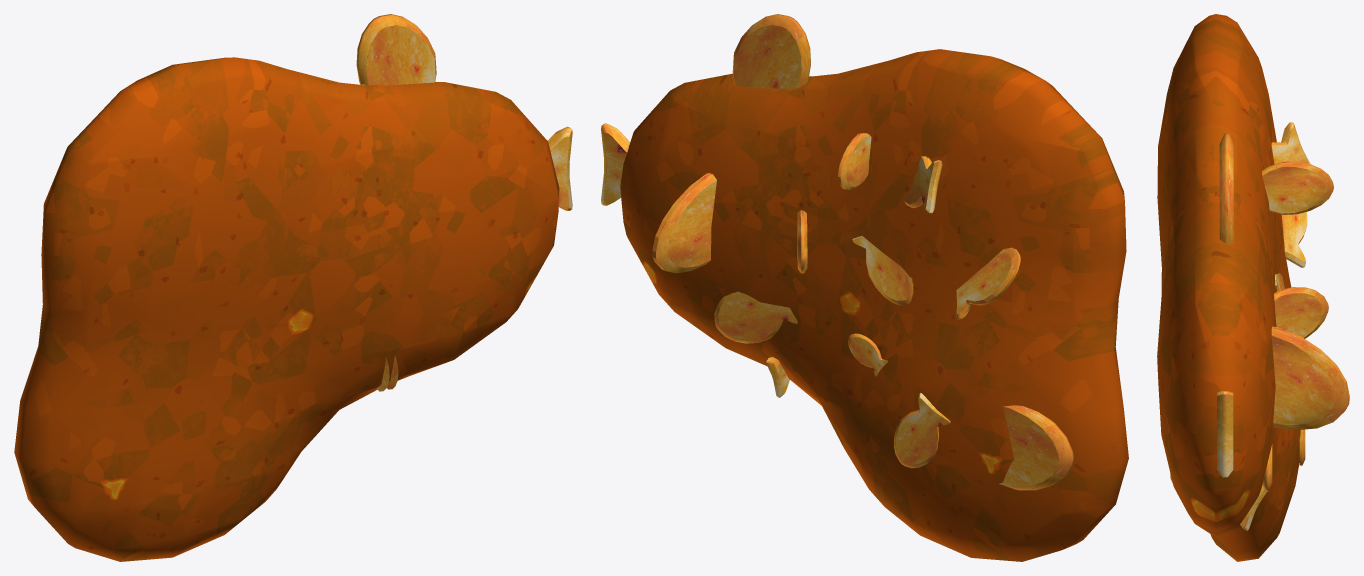
Rendered from gf_int_fish_3.glb.
3 renders of one model, left to right at view 1: azimuth 30°, elevation 25°; view 2: azimuth 150°, elevation 25°; view 3: azimuth 270°, elevation 25°, orthographic. The views are drawn at different scales.
Parts seen in each view (by area): view 1: Mball.005, fish in wall 1; view 2: Mball.005, fish in wall 1; view 3: Mball.005, fish in wall 1.
Part boxes in pixels (x1,y1,x2,y2): Mball.005: (14, 57, 559, 561); fish in wall 1: (356, 14, 572, 391); Mball.005: (620, 49, 1128, 561); fish in wall 1: (601, 14, 1073, 490); Mball.005: (1157, 14, 1300, 561); fish in wall 1: (1170, 122, 1349, 530).
Size of the model in its own units: 6.98 by 6.14 by 2.07.
Materials: 2 (2 with a texture image).
